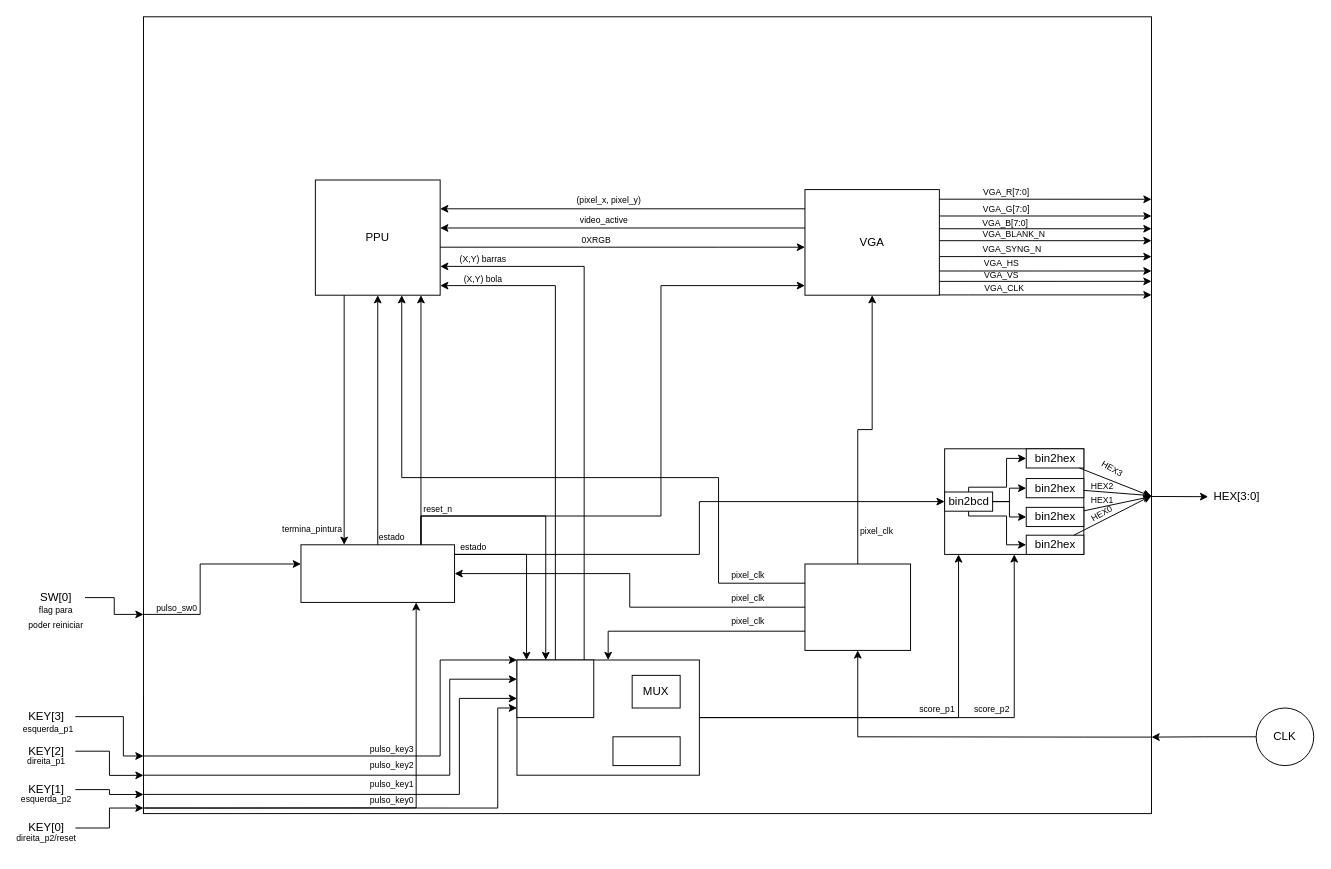
Image size: 1331x869. Some labels were removed from this diagram. The centre of each missing label's shape, as x and y in pixels:
"acumulador" belongs at (x=646, y=751).
"Game Controler" belongs at (x=555, y=688).
"Máquina de Controle" belongs at (x=377, y=573).
"PLL" belongs at (x=857, y=606).
